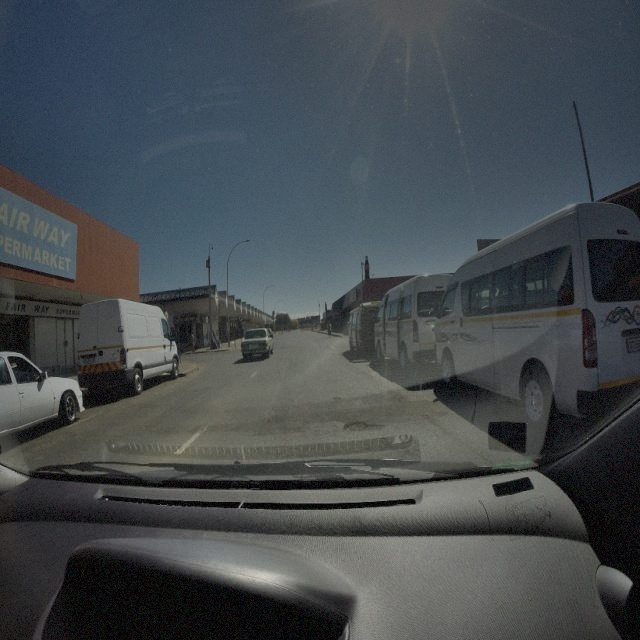pothole: (341, 416, 383, 434)
